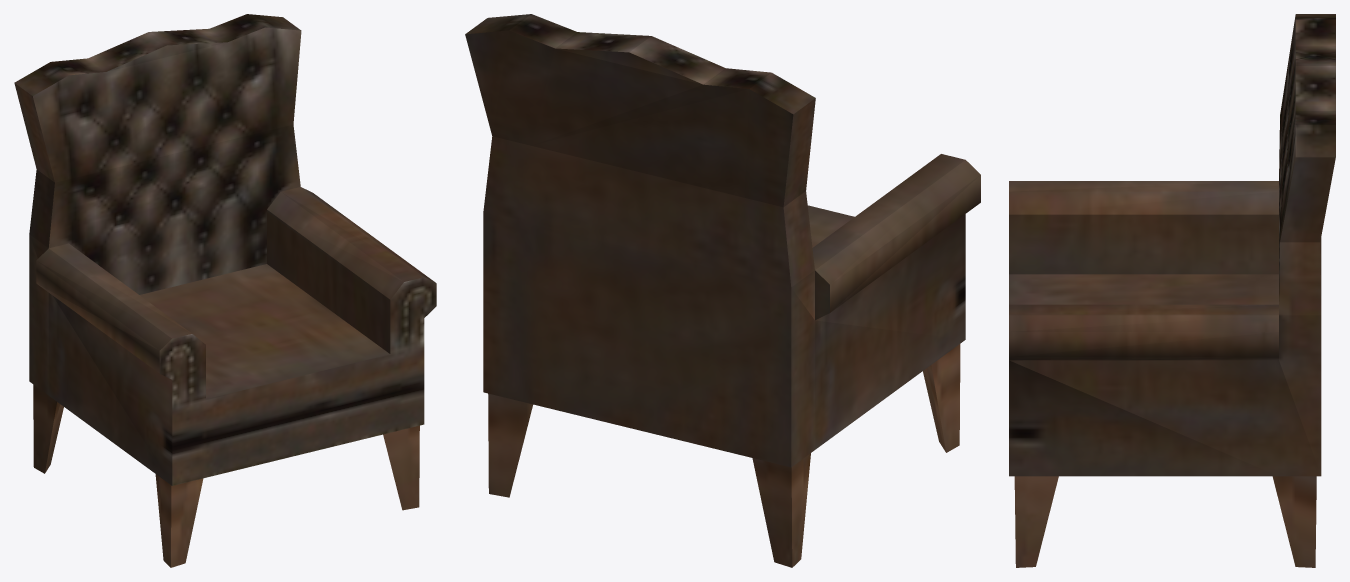
Rendered from poltrona_a.glb.
The picture shows the model from 3 angles, left to right: view 1: azimuth 30°, elevation 25°; view 2: azimuth 150°, elevation 25°; view 3: azimuth 270°, elevation 25°; orthographic projection. The views are drawn at different scales.
Visible parts, largest first — view 1: poltrona_a; view 2: poltrona_a; view 3: poltrona_a.
Part boxes in pixels (x1,y1,x2,y2): poltrona_a: (14,14,436,567); poltrona_a: (465,14,980,567); poltrona_a: (1009,14,1335,567).
Size of the model in its own units: 0.9048 by 1.24 by 0.846.
1 material, 1 textured.
